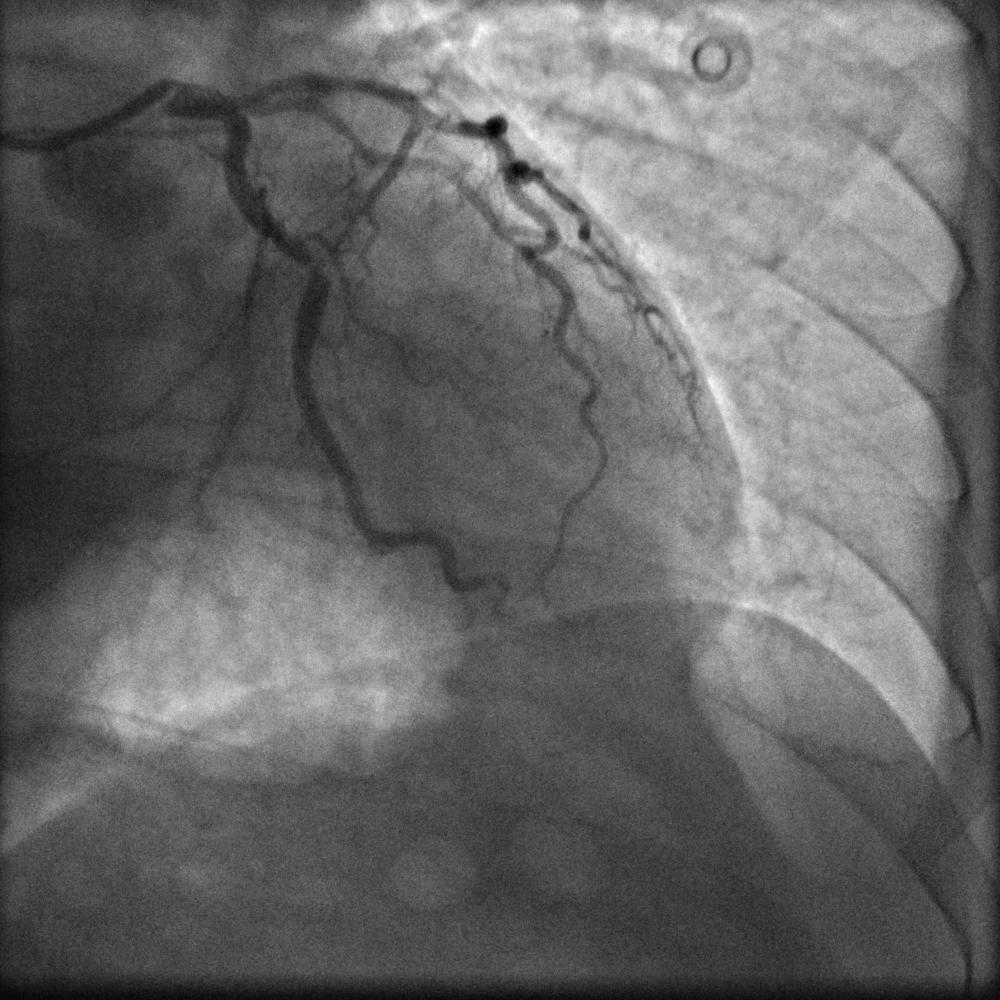Stenosis: (299, 250, 329, 283)
